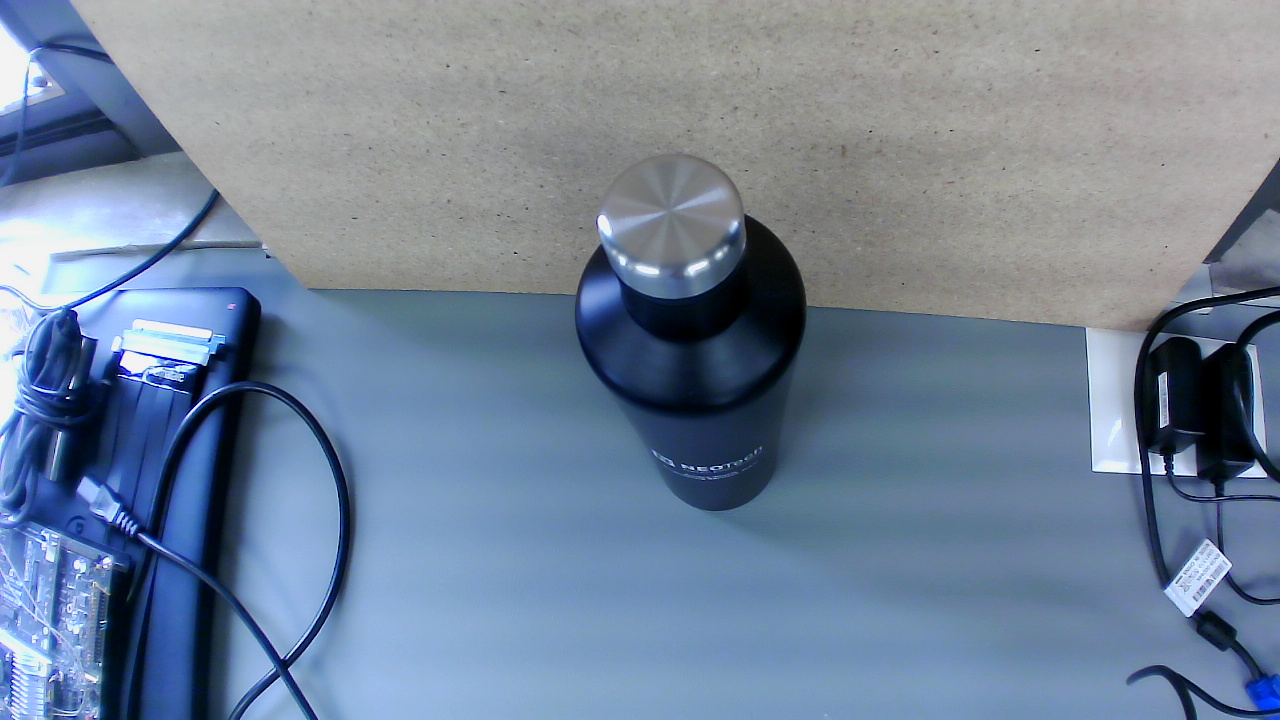neobottle: (560, 144, 819, 514)
